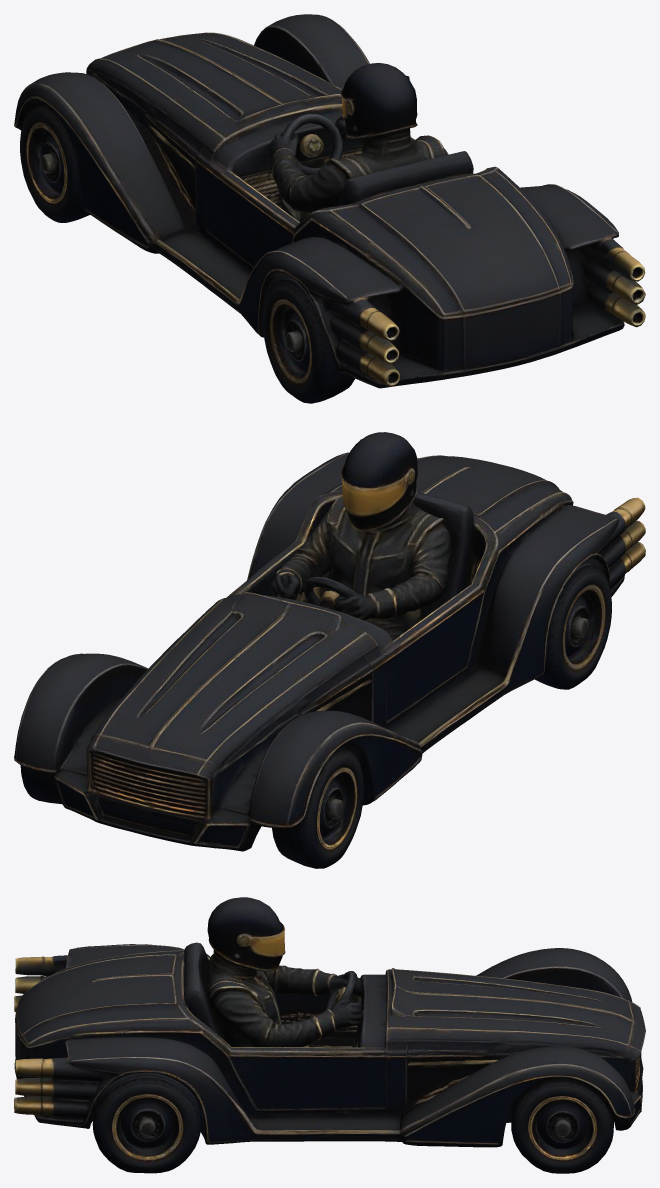
The model's file is collective-dark.glb.
3 views of the same model, one above another, from view 1: azimuth 30°, elevation 25°; view 2: azimuth 150°, elevation 25°; view 3: azimuth 270°, elevation 25° (orthographic). The views are drawn at different scales.
Parts seen in each view (by area): view 1: chassis; view 2: chassis; view 3: chassis.
Part boxes in pixels (x1,y1,x2,y2): chassis: (14, 14, 645, 403); chassis: (14, 432, 645, 868); chassis: (14, 897, 645, 1173).
Bounding box in the file's own units: 2.07 × 1.69 × 4.5.
Materials: 1 (1 with a texture image).
